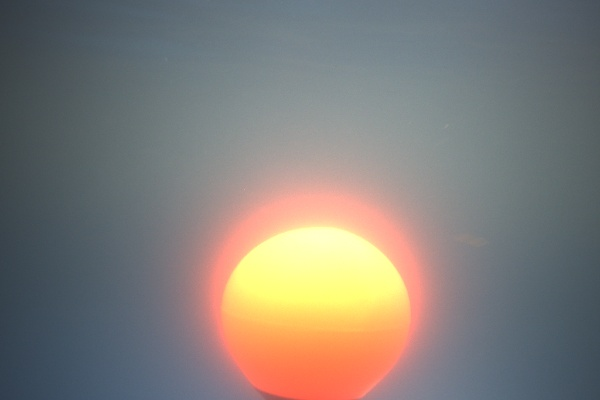buoy: (277, 106, 317, 148)
